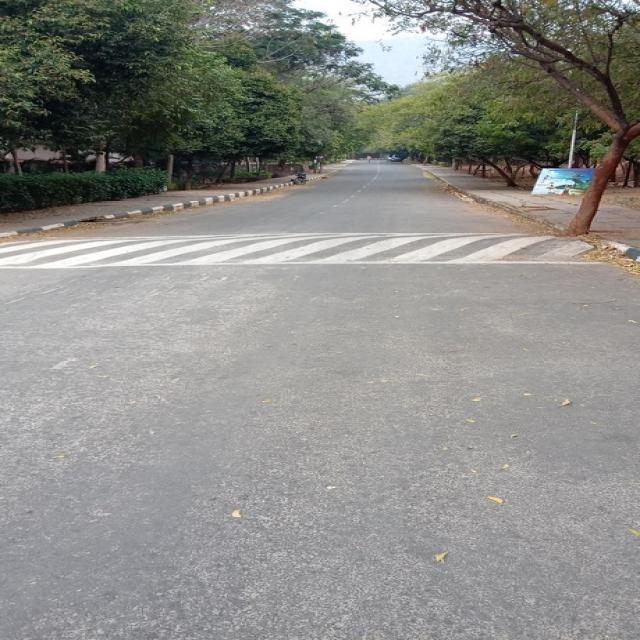speedbreaker: (0, 231, 624, 268)
